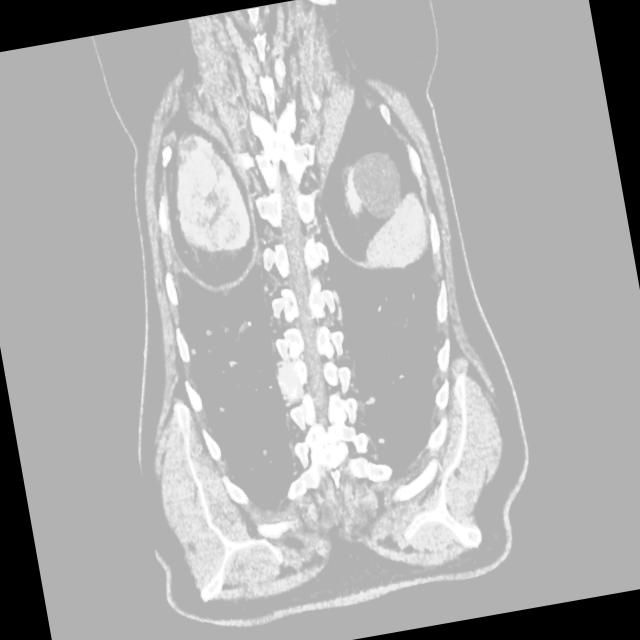TUMOR: (83, 52, 511, 376)
